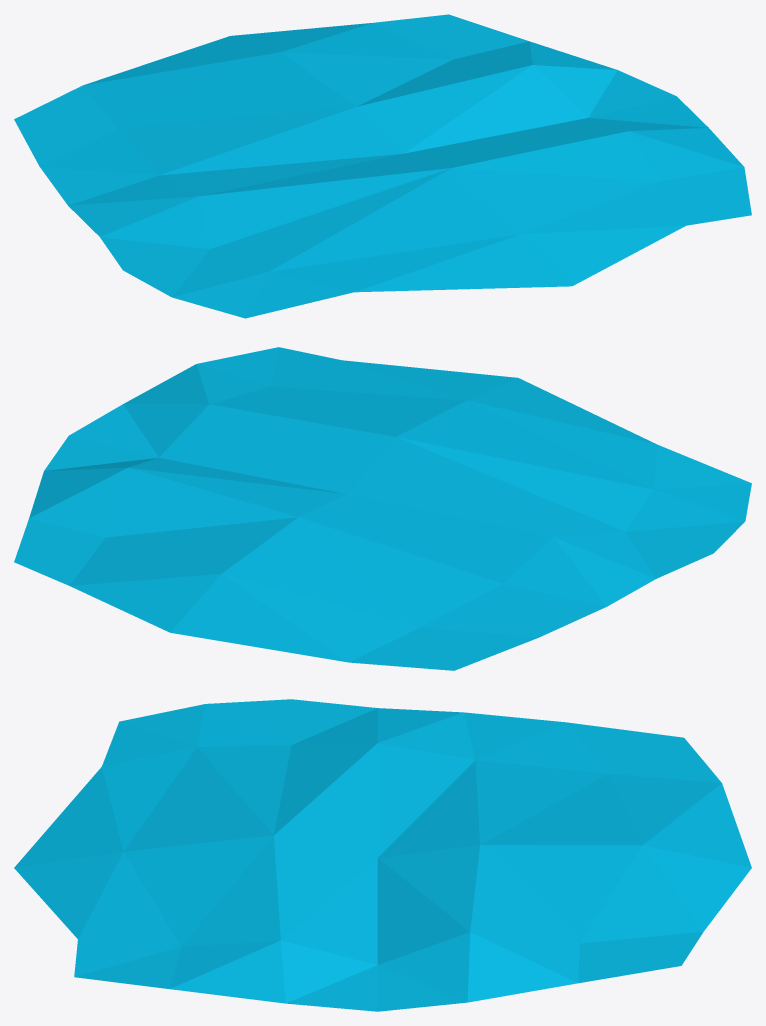
Rendered from waterPond.fbx.
The picture shows the model from 3 angles, top to bottom: view 1: azimuth 30°, elevation 25°; view 2: azimuth 150°, elevation 25°; view 3: azimuth 270°, elevation 25°; orthographic projection. The views are drawn at different scales.
Visible parts, largest first — view 1: waterPond; view 2: waterPond; view 3: waterPond.
Boxes of the visible parts, <box> form: waterPond: <box>14,14,751,318</box>; waterPond: <box>14,347,751,670</box>; waterPond: <box>14,699,751,1011</box>.
Bounding box in the file's own units: 55.61 × 2.7 × 55.5.
